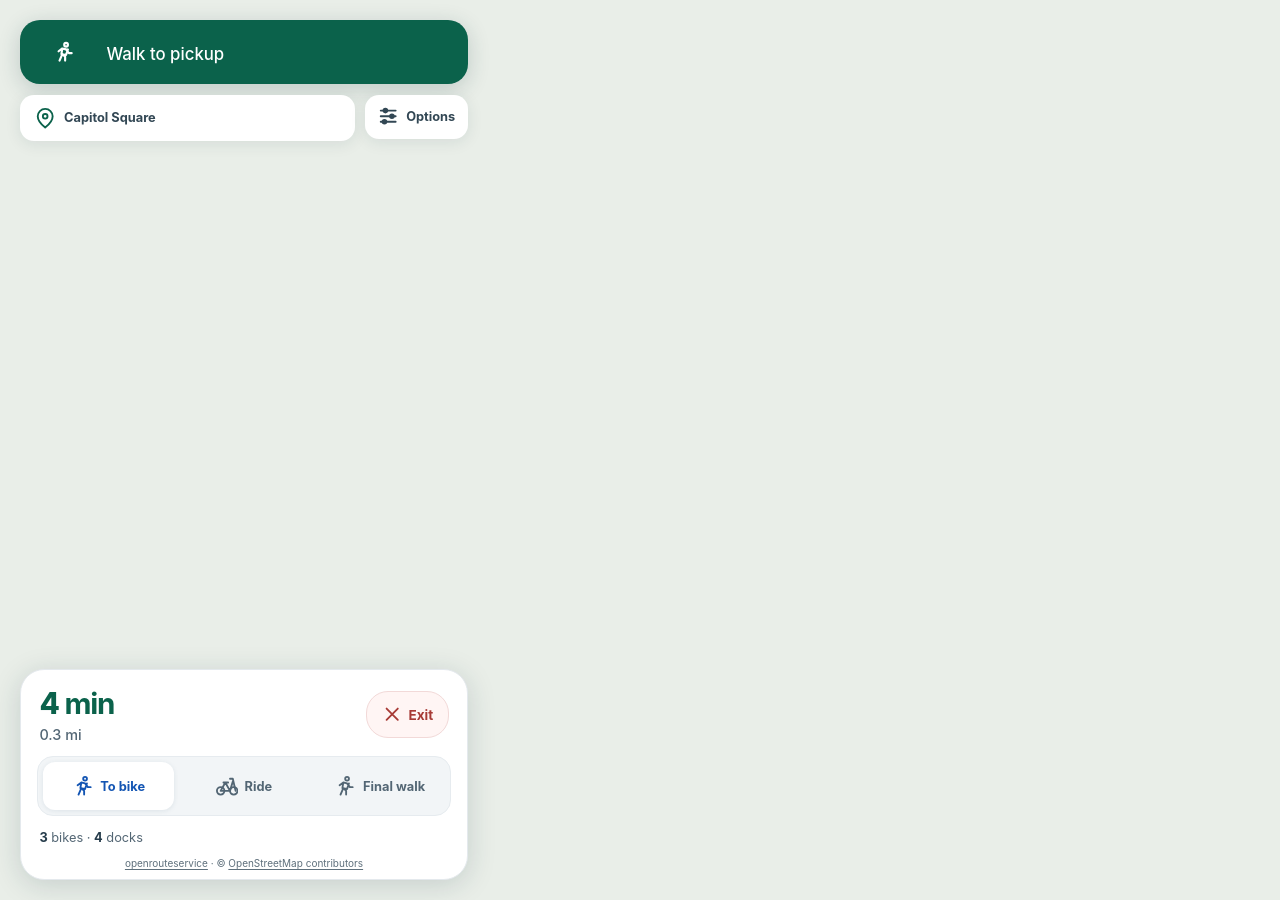
Test: guided navigation screen › keeps manual-origin navigation a route overview (pickup only: false)
The width and height of the screenshot is (1280, 900).
expect the element with class "navigation-time" reads "4 min": met, box [39,686,114,720]
expect the element named "Route overview" reads "Walk to pickup": met, box [106,44,224,64]
Click the button with aria-label "Ride to drop-off" at (244, 786), box [178,762,309,810]
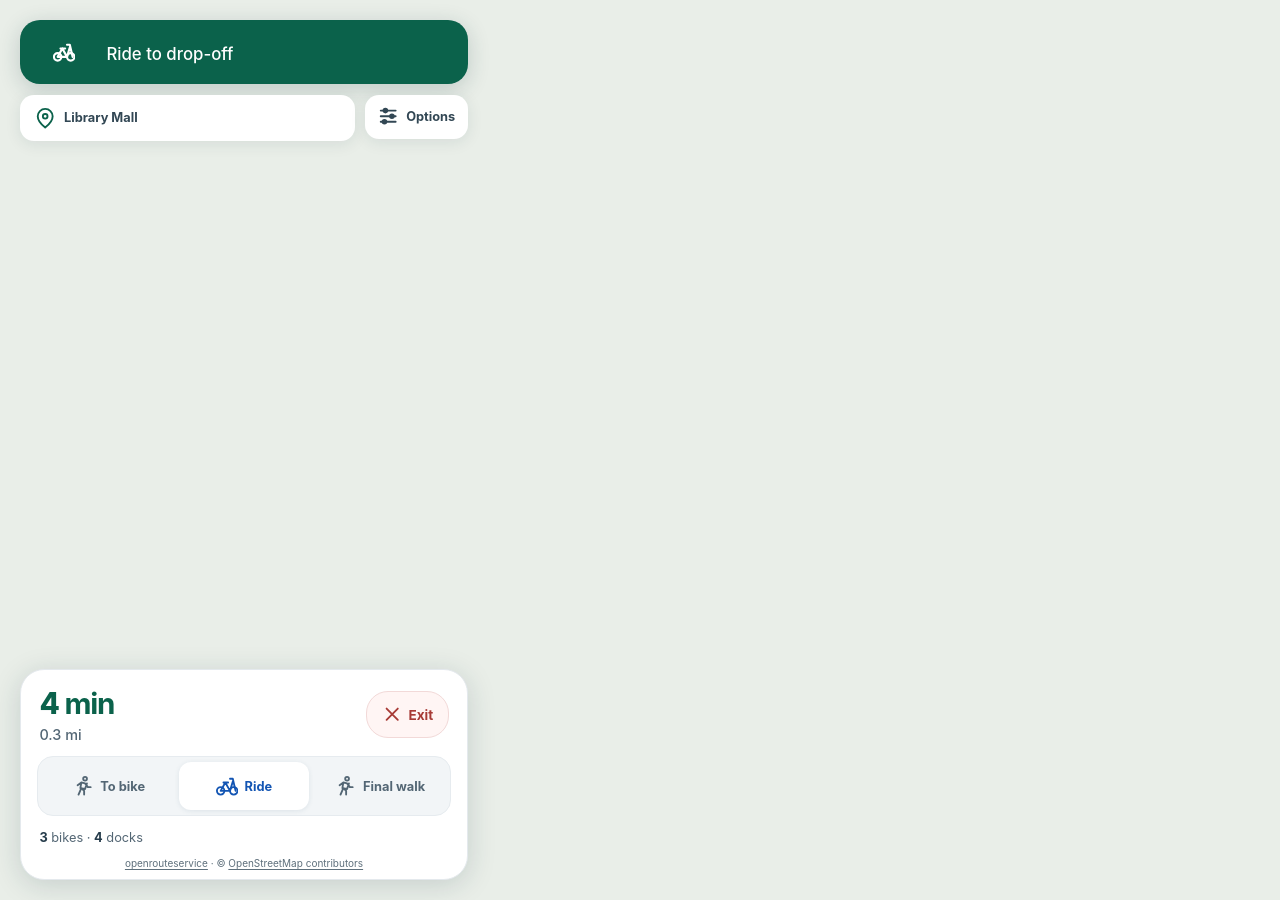
expect the element named "Route overview" reads "Ride to drop-off": met, box [106,44,233,64]
